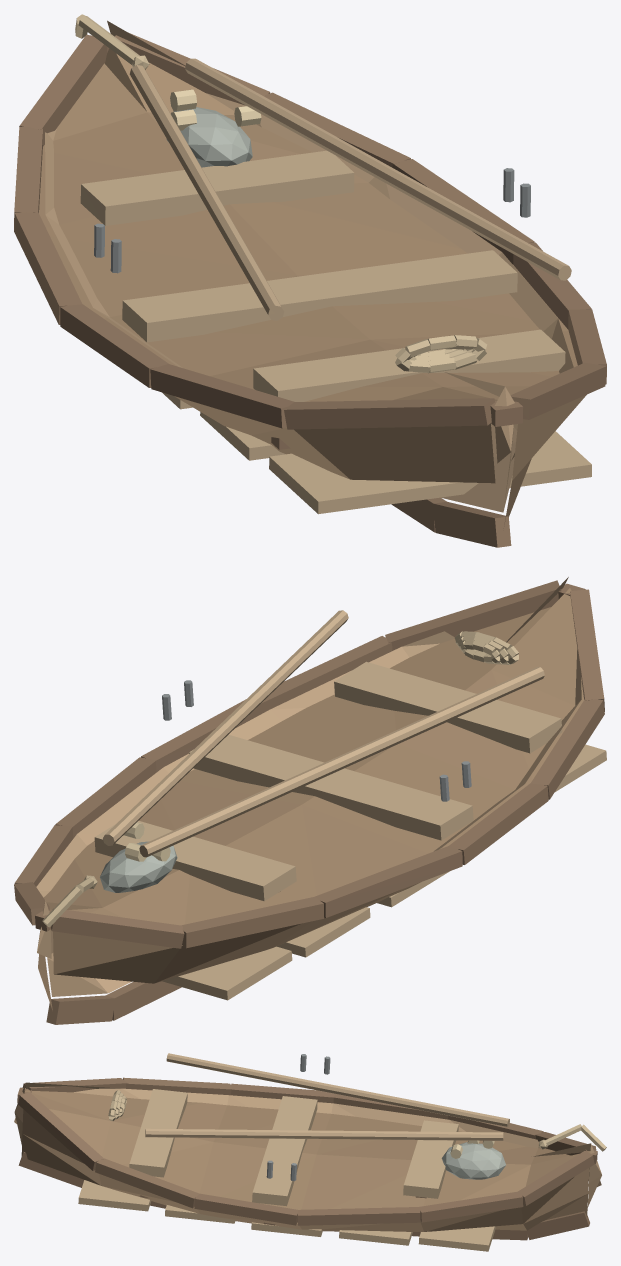
The model's file is fisher_boat.glb.
3 views of the same model, one above another, from view 1: azimuth 30°, elevation 25°; view 2: azimuth 150°, elevation 25°; view 3: azimuth 270°, elevation 25° (orthographic). The views are drawn at different scales.
Parts seen in each view (by area): view 1: Hull Outer, Seat 1, Seat 2, Hull Inner, Seat 0, Floorboard 0, Oar Shaft L, Gunwale R 0, Oar Shaft R, Gunwale R 1, Gunwale R 2, Gunwale R 5 (+13 smaller); view 2: Hull Outer, Seat 1, Hull Inner, Seat 0, Oar Shaft R, Seat 2, Oar Shaft L, Gunwale L 0, Gunwale R 3, Gunwale R 4, Floorboard 4, Gunwale R 5 (+13 smaller); view 3: Hull Outer, Hull Inner, Seat 1, Oar Shaft L, Oar Shaft R, Seat 0, Seat 2, Gunwale L 3, Gunwale L 0, Gunwale L 1, Net Bundle, Gunwale L 4 (+16 smaller).
Part boxes in pixels (bbox=[...]): Hull Outer: bbox=[39, 48, 586, 528]; Seat 1: bbox=[122, 250, 517, 342]; Seat 2: bbox=[80, 150, 354, 225]; Hull Inner: bbox=[45, 20, 573, 512]; Seat 0: bbox=[253, 329, 565, 401]; Floorboard 0: bbox=[269, 431, 591, 514]; Oar Shaft L: bbox=[185, 58, 571, 280]; Gunwale R 0: bbox=[284, 398, 494, 429]; Oar Shaft R: bbox=[129, 65, 284, 320]; Gunwale R 1: bbox=[150, 364, 294, 428]; Gunwale R 2: bbox=[60, 304, 168, 387]; Gunwale R 5: bbox=[19, 34, 107, 146]; Hull Outer: bbox=[38, 588, 583, 1010]; Seat 1: bbox=[189, 734, 473, 840]; Hull Inner: bbox=[36, 577, 581, 996]; Seat 0: bbox=[334, 661, 562, 753]; Oar Shaft R: bbox=[139, 666, 544, 857]; Seat 2: bbox=[94, 820, 296, 901]; Oar Shaft L: bbox=[103, 610, 348, 845]; Gunwale L 0: bbox=[385, 580, 561, 650]; Gunwale R 3: bbox=[315, 846, 462, 917]; Gunwale R 4: bbox=[181, 896, 323, 948]; Floorboard 4: bbox=[162, 946, 292, 1000]; Gunwale R 5: bbox=[51, 908, 184, 948]; Hull Outer: bbox=[14, 1090, 601, 1231]; Hull Inner: bbox=[14, 1082, 601, 1207]; Seat 1: bbox=[252, 1096, 317, 1206]; Oar Shaft L: bbox=[145, 1128, 503, 1140]; Oar Shaft R: bbox=[166, 1053, 509, 1126]; Seat 0: bbox=[129, 1089, 187, 1177]; Seat 2: bbox=[403, 1120, 458, 1198]; Gunwale L 3: bbox=[297, 1207, 420, 1225]; Gunwale L 0: bbox=[18, 1092, 103, 1170]; Gunwale L 1: bbox=[95, 1158, 199, 1208]; Net Bundle: bbox=[441, 1142, 505, 1179]; Gunwale L 4: bbox=[418, 1192, 523, 1222].
Size of the model in its own units: 1.74 by 0.9277 by 3.7.
